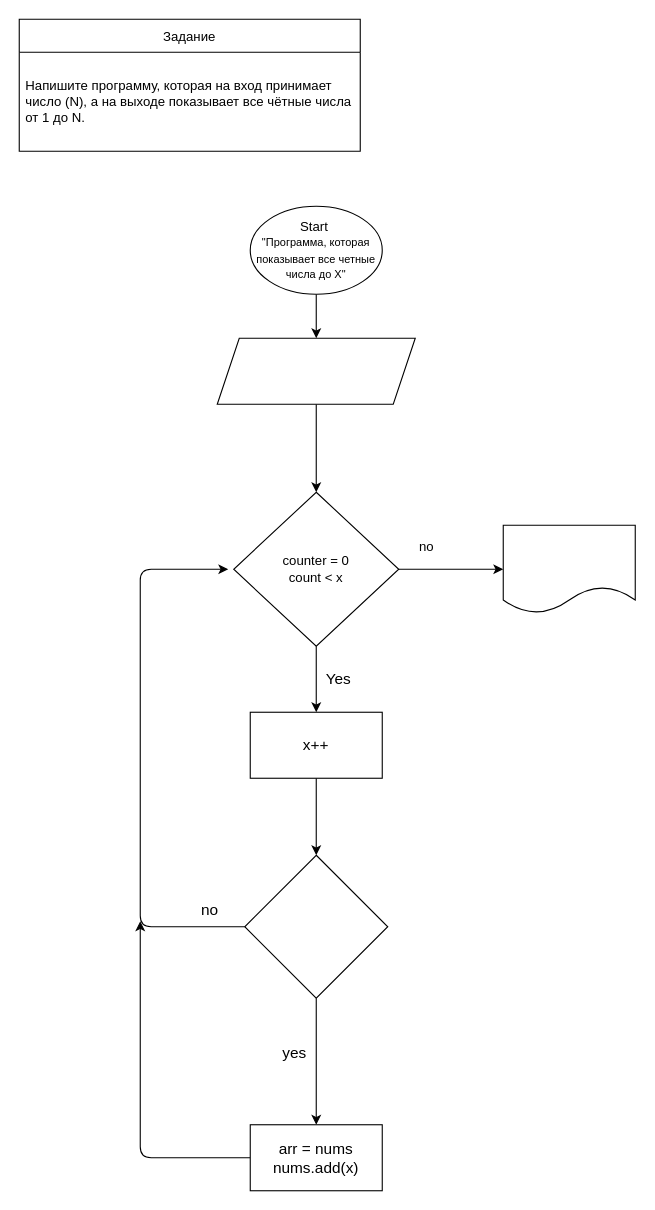
Some shapes in this 655 by 1210 pixel diagram are drawn without their labels. The centre of each missing label's shape, as x and y in pixels:
"int = x" belongs at (315,370).
"nums" belongs at (568,568).
"x % 2 = 0" belongs at (316,926).
